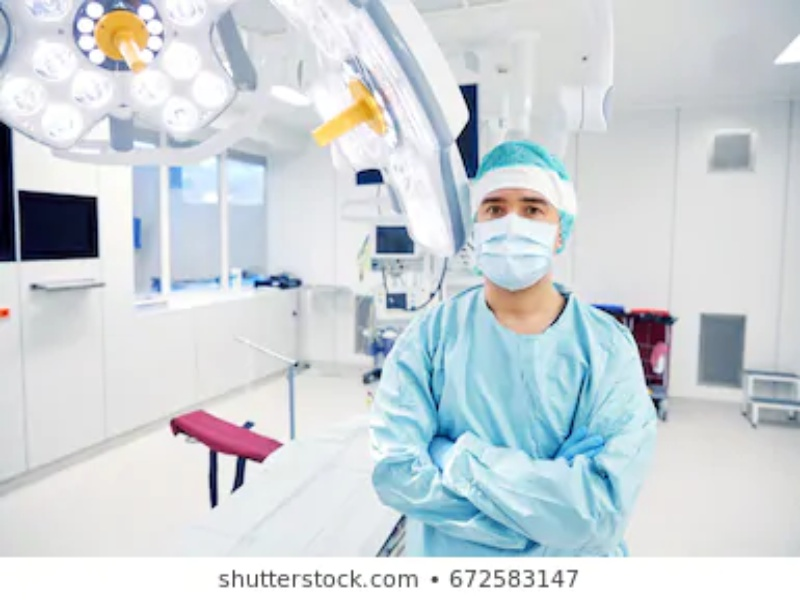ManaoArotava: (461, 139, 589, 307)
